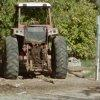Tractor: (2, 1, 73, 86)
